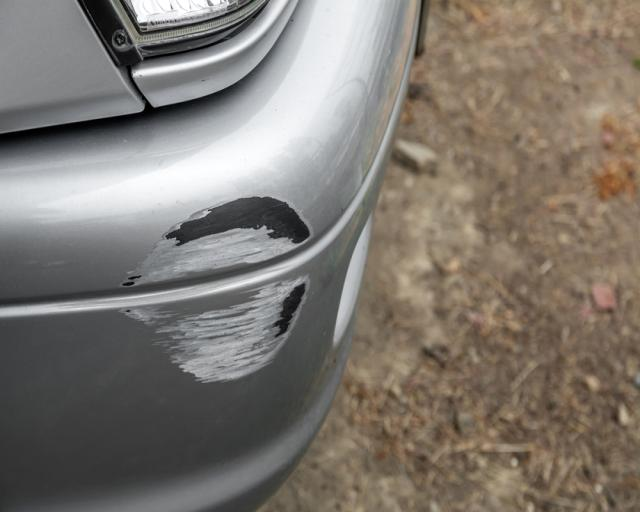scratch: (118, 192, 317, 384)
